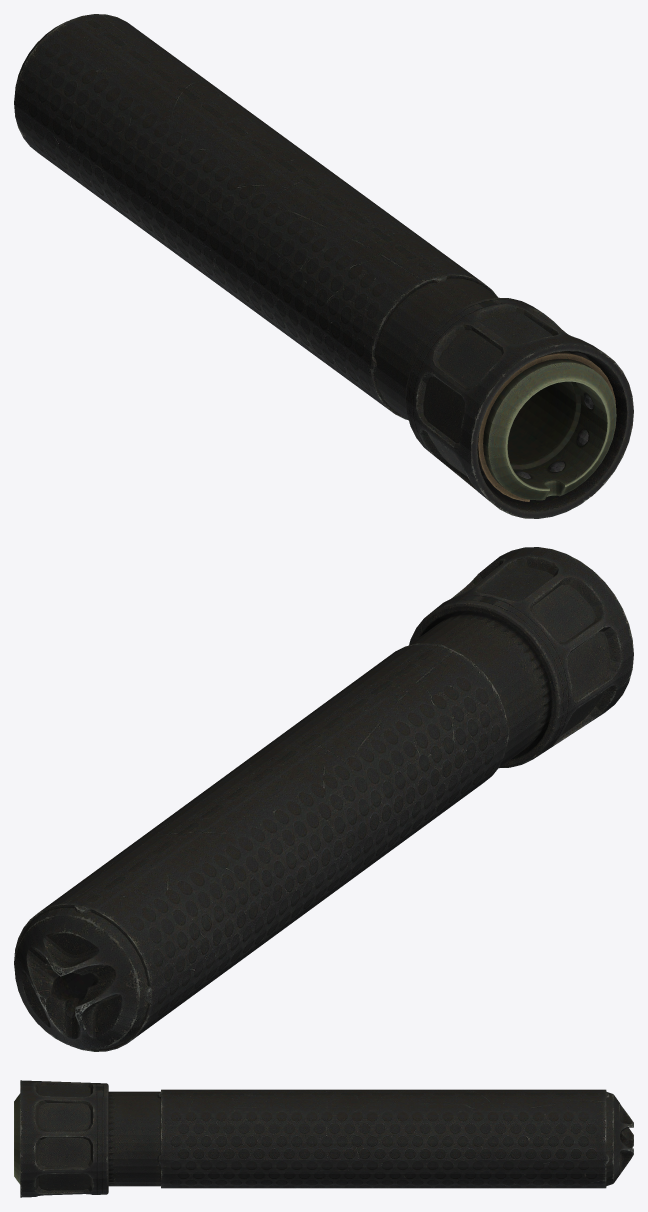
3 views of the same model, one above another, from view 1: azimuth 30°, elevation 25°; view 2: azimuth 150°, elevation 25°; view 3: azimuth 270°, elevation 25° (orthographic). The views are drawn at different scales.
Parts seen in each view (by area): view 1: TW_5dfa3d2b0dee1b22f862eade_PZ_Import; view 2: TW_5dfa3d2b0dee1b22f862eade_PZ_Import; view 3: TW_5dfa3d2b0dee1b22f862eade_PZ_Import.
Boxes of the visible parts, x1,y1,x2,y2 form: TW_5dfa3d2b0dee1b22f862eade_PZ_Import: [14, 14, 633, 518]; TW_5dfa3d2b0dee1b22f862eade_PZ_Import: [14, 547, 633, 1051]; TW_5dfa3d2b0dee1b22f862eade_PZ_Import: [14, 1080, 633, 1197].
Bounding box in the file's own units: 0.0254 × 0.1341 × 0.0254.
1 material, 1 textured.
